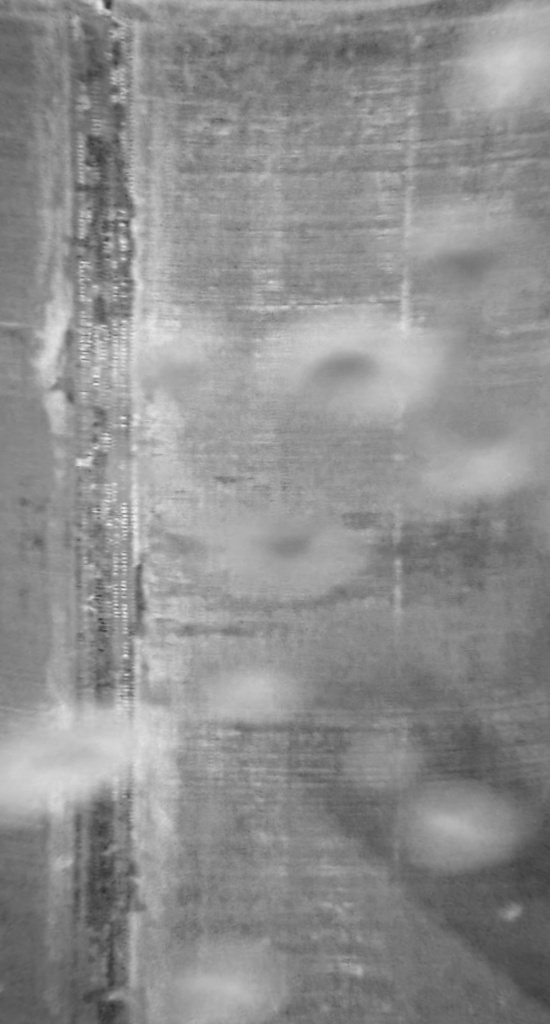splice: (49, 1, 152, 1024)
